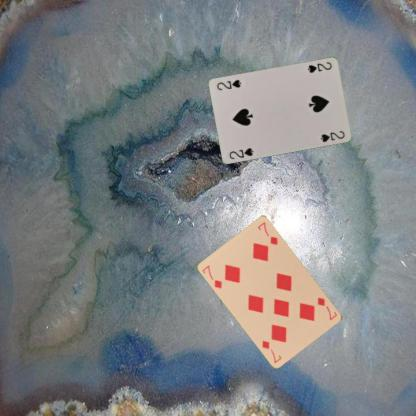2s: (226, 145, 255, 160), (305, 59, 333, 74)
7d: (200, 263, 224, 290), (315, 295, 338, 321)
